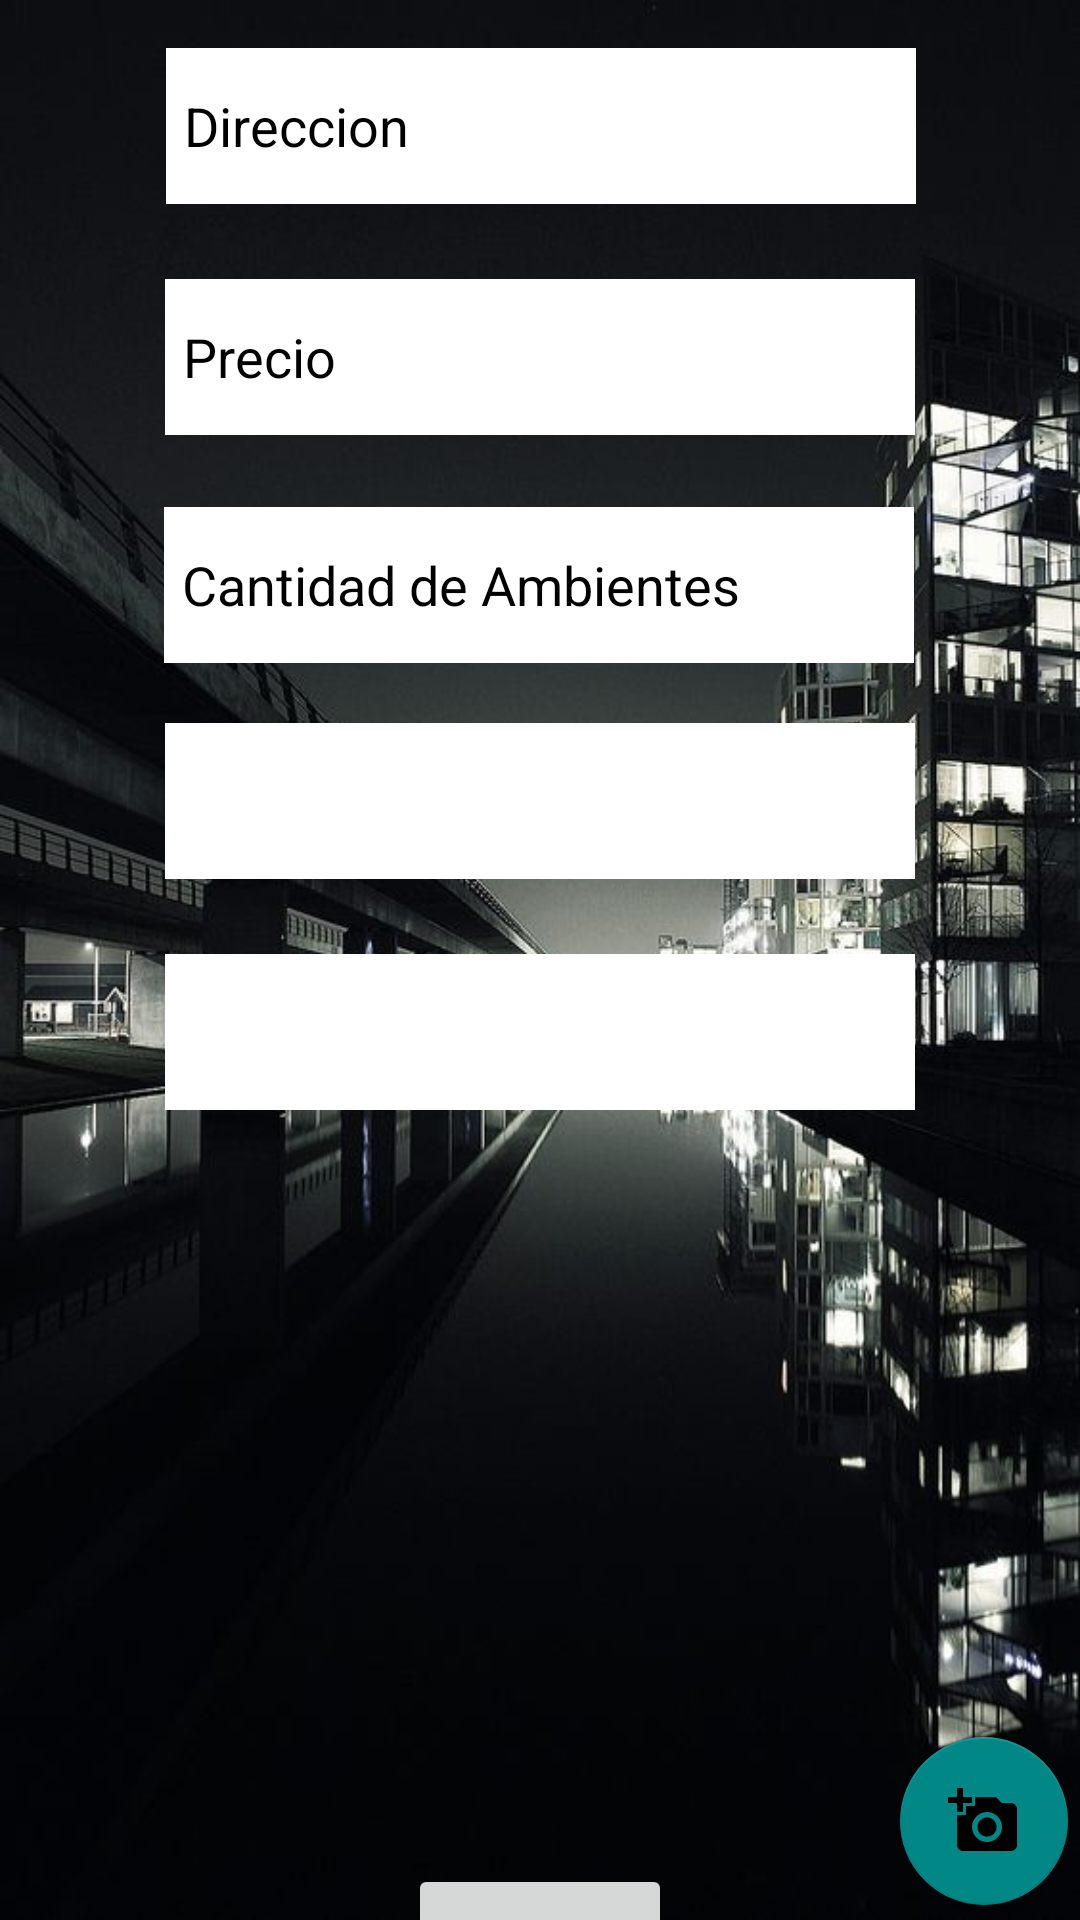

Screen size 1080*1920. Icon name, then its box in pixels as (x1, y1, x2, y2):
add photo: (900, 1737, 1068, 1905)
